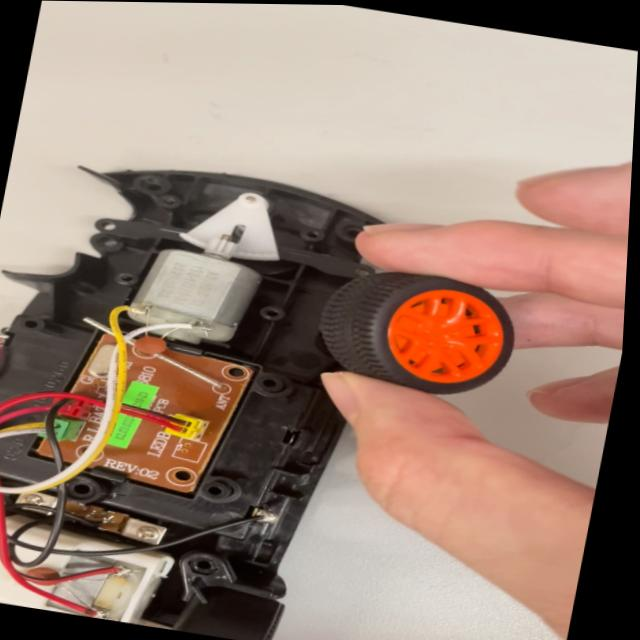motor: (110, 219, 280, 358)
wheel: (306, 249, 539, 400)
